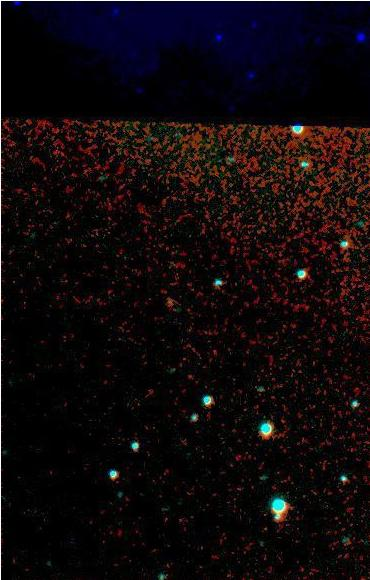star: (253, 472, 283, 502)
